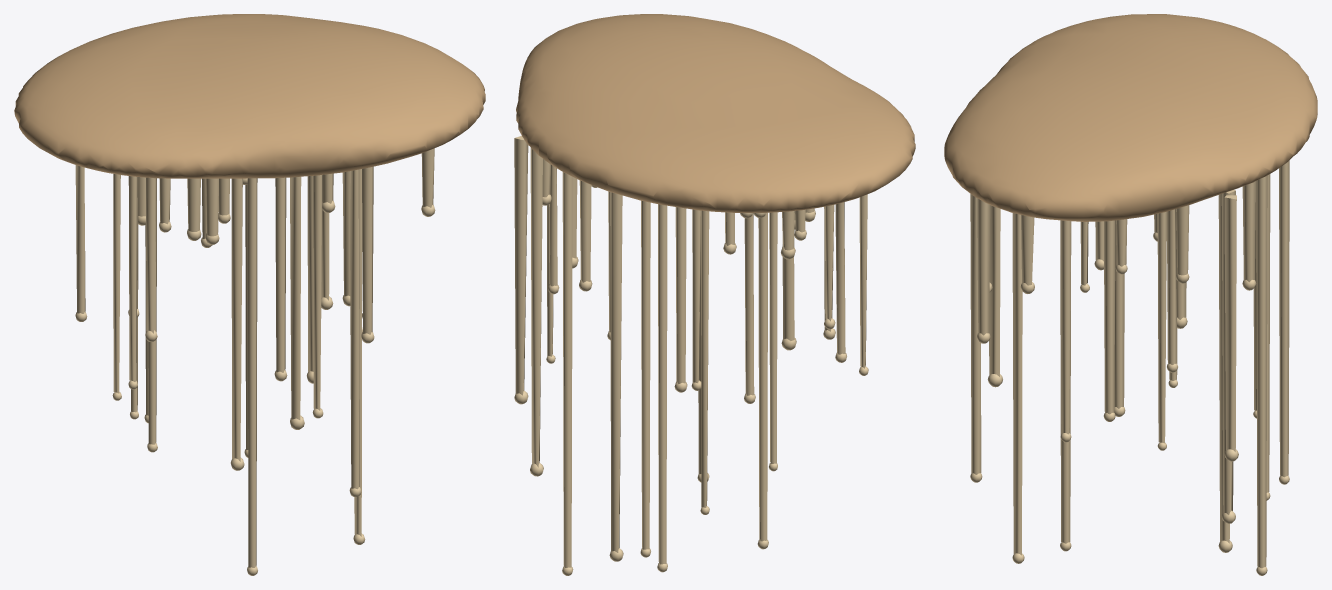
Rendered from straws.glb.
3 renders of one model, left to right at view 1: azimuth 30°, elevation 25°; view 2: azimuth 150°, elevation 25°; view 3: azimuth 270°, elevation 25°, orthographic.
Visible parts, largest first — view 1: calcite_0, pale_49, pale_31, pale_67, pale_17, pale_65, pale_15, pale_61, pale_47, pale_1, pale_43, pale_45 (+9 smaller); view 2: calcite_0, pale_31, pale_19, pale_11, pale_9, pale_29, pale_49, pale_25, pale_1, pale_7, pale_65, pale_67 (+9 smaller); view 3: calcite_0, pale_19, pale_45, pale_29, pale_25, pale_67, pale_51, pale_15, pale_13, pale_17, pale_61, pale_49 (+11 smaller).
Boxes of the visible parts, bbox=[...] form: calcite_0: bbox=[14, 14, 485, 178]; pale_49: bbox=[247, 178, 257, 567]; pale_31: bbox=[231, 178, 242, 461]; pale_67: bbox=[350, 169, 359, 489]; pale_17: bbox=[290, 176, 301, 419]; pale_65: bbox=[275, 177, 286, 372]; pale_15: bbox=[313, 175, 322, 410]; pale_61: bbox=[362, 166, 373, 334]; pale_47: bbox=[129, 176, 137, 381]; pale_1: bbox=[113, 174, 120, 393]; pale_43: bbox=[146, 177, 156, 333]; pale_45: bbox=[354, 169, 362, 536]; calcite_0: bbox=[516, 14, 915, 212]; pale_31: bbox=[610, 192, 622, 552]; pale_19: bbox=[562, 172, 572, 567]; pale_11: bbox=[530, 148, 542, 467]; pale_9: bbox=[658, 204, 667, 564]; pale_29: bbox=[641, 200, 650, 549]; pale_49: bbox=[758, 212, 767, 541]; pale_25: bbox=[514, 135, 528, 395]; pale_1: bbox=[701, 210, 709, 507]; pale_7: bbox=[769, 212, 777, 463]; pale_65: bbox=[675, 207, 686, 383]; pale_67: bbox=[744, 213, 754, 395]; calcite_0: bbox=[944, 14, 1317, 221]; pale_19: bbox=[1256, 175, 1267, 568]; pale_45: bbox=[1012, 213, 1022, 555]; pale_29: bbox=[1279, 160, 1289, 477]; pale_25: bbox=[1224, 195, 1236, 451]; pale_67: bbox=[970, 194, 981, 474]; pale_51: bbox=[1104, 220, 1115, 414]; pale_15: bbox=[1060, 220, 1070, 434]; pale_13: bbox=[1157, 211, 1166, 443]; pale_17: bbox=[989, 205, 1000, 376]; pale_61: bbox=[977, 198, 990, 335]; pale_49: bbox=[1060, 220, 1071, 543].
Bounding box in the file's own units: 1.09 × 1.28 × 0.8987.
